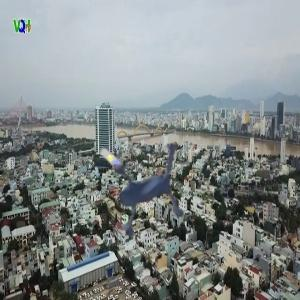drone: (68, 106, 214, 252)
